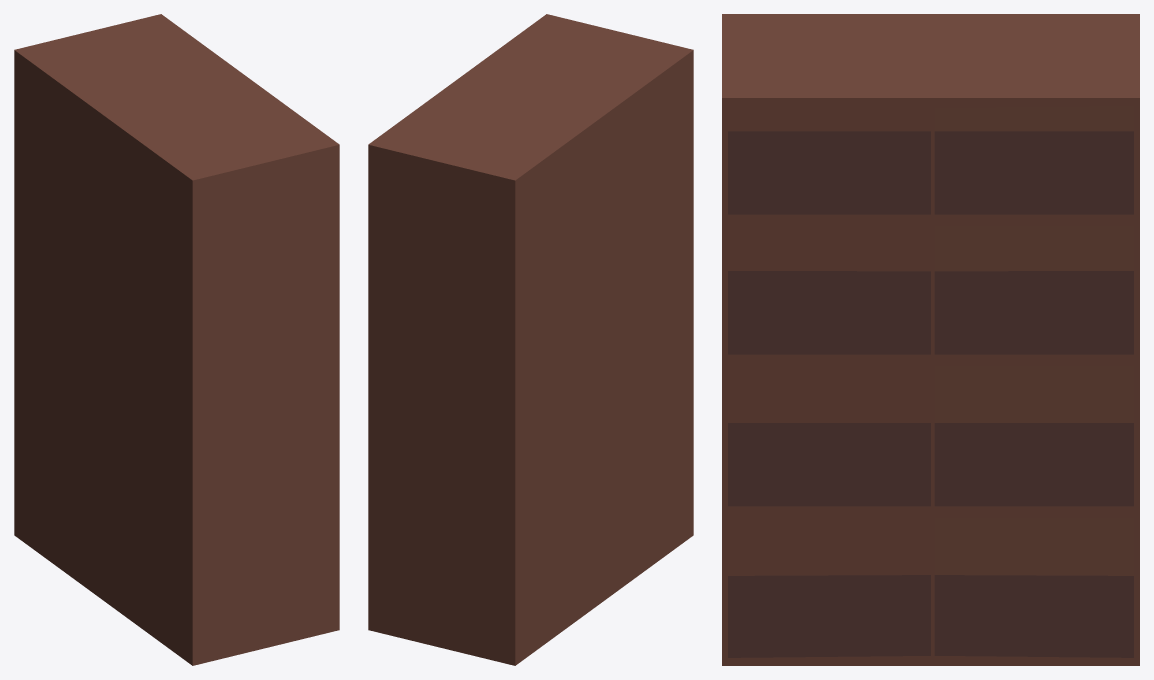
Rendered from Bookcase2.fbx.
The picture shows the model from 3 angles, left to right: view 1: azimuth 30°, elevation 25°; view 2: azimuth 150°, elevation 25°; view 3: azimuth 270°, elevation 25°; orthographic projection. The views are drawn at different scales.
Parts seen in each view (by area): view 1: Bookcase2; view 2: Bookcase2; view 3: Bookcase2.
Part boxes in pixels (x1,y1,x2,y2): Bookcase2: (14,14,339,665); Bookcase2: (368,14,693,665); Bookcase2: (722,14,1139,665).
Size of the model in its own units: 381 by 1200 by 800.
